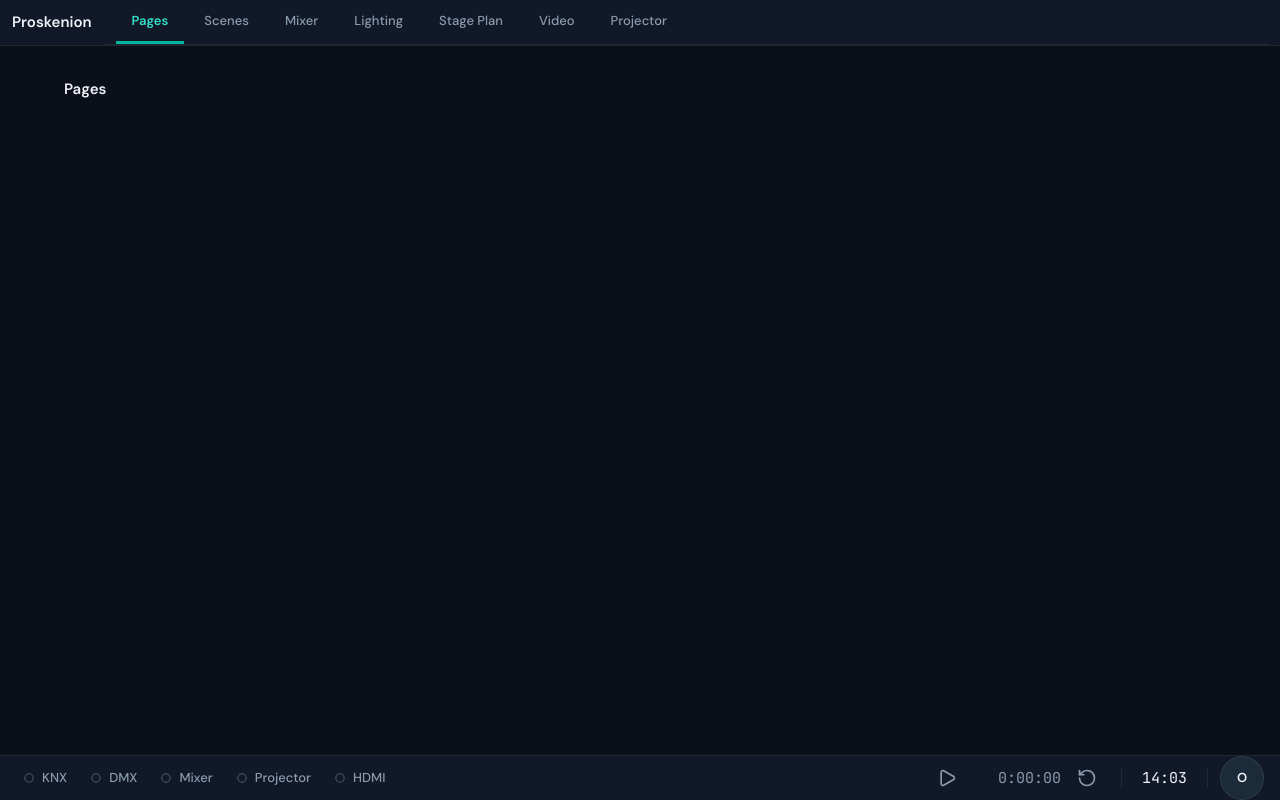
Test: focus follows navigation (§24.7) › does not move focus inside an open dialog
Click the link "Scenes" at x=227, y=20, box [204,12,249,29]
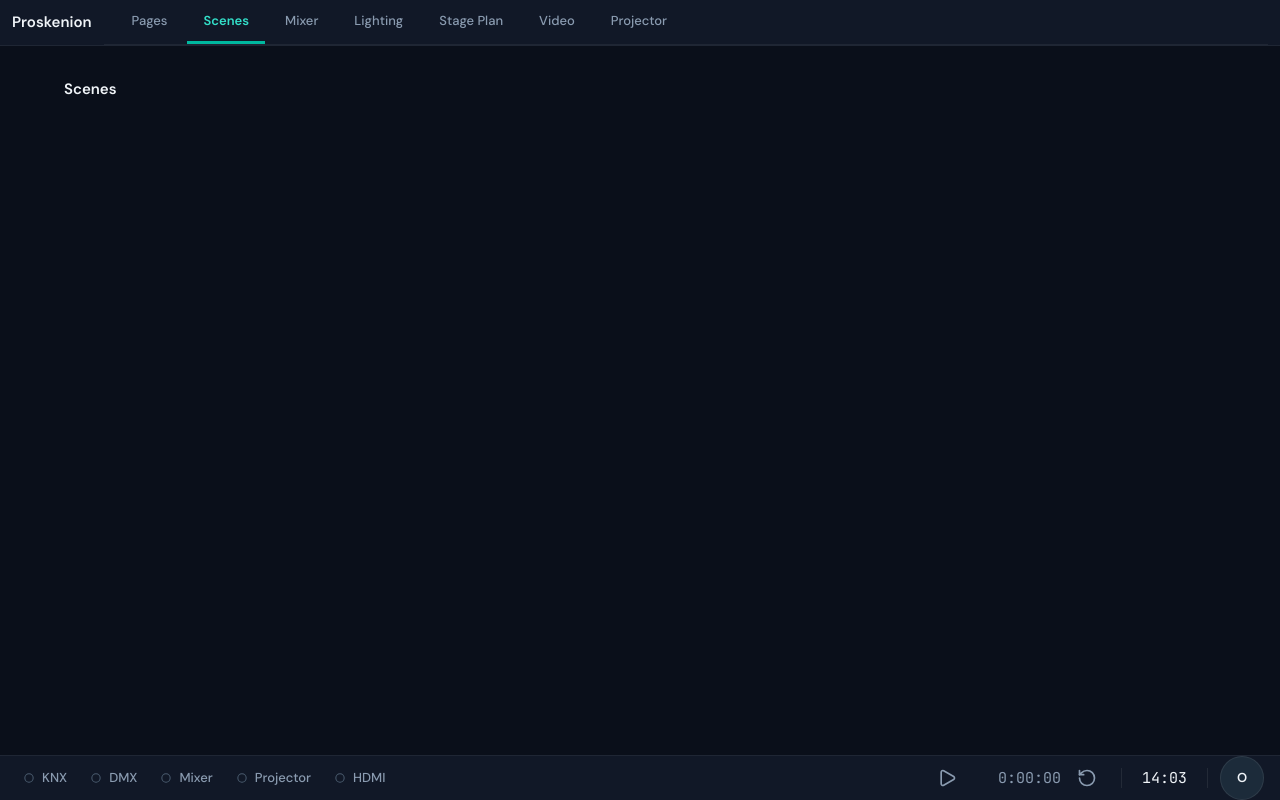
Now the heading "Scenes" is shown, box [64,79,117,99]
